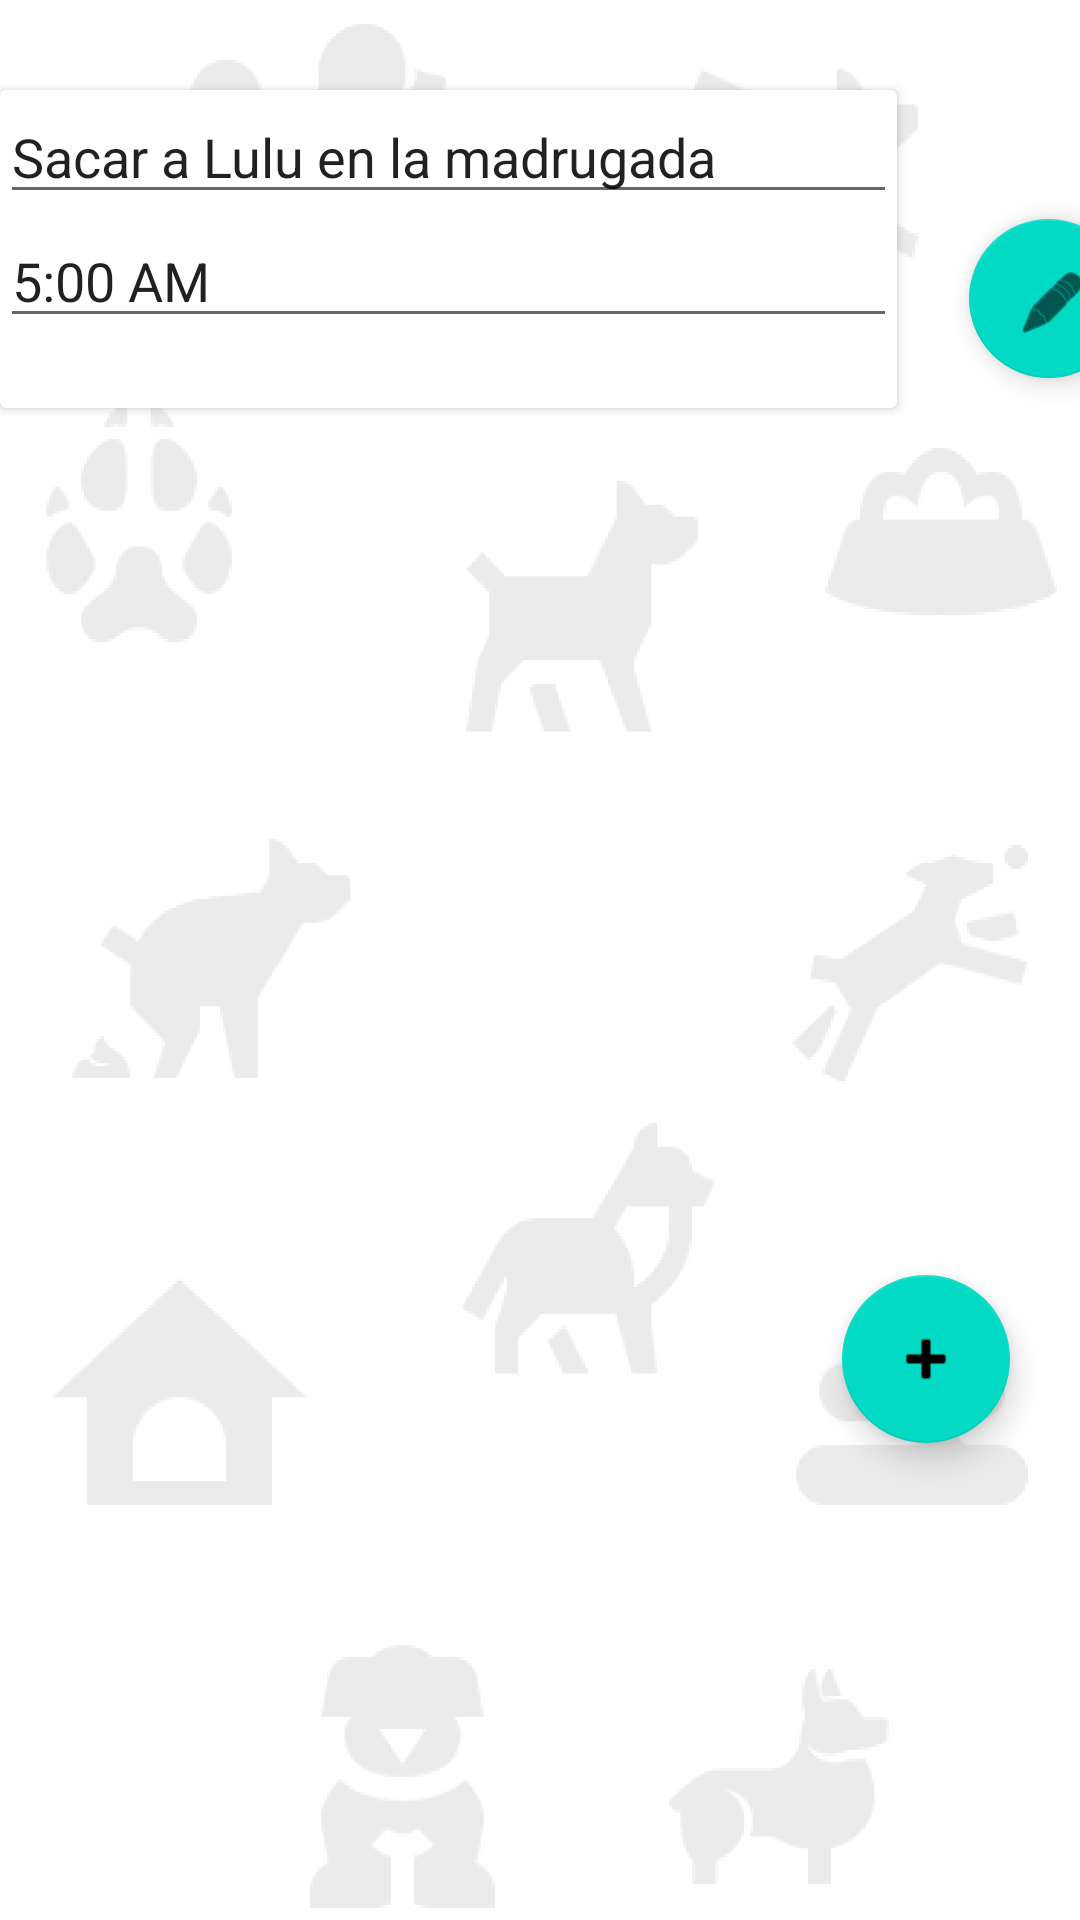

Icon bounding boxes for this 1080px×1920px phone screenshot, format (x1,y1,x2,y2):
add: (842,1275,1010,1443)
